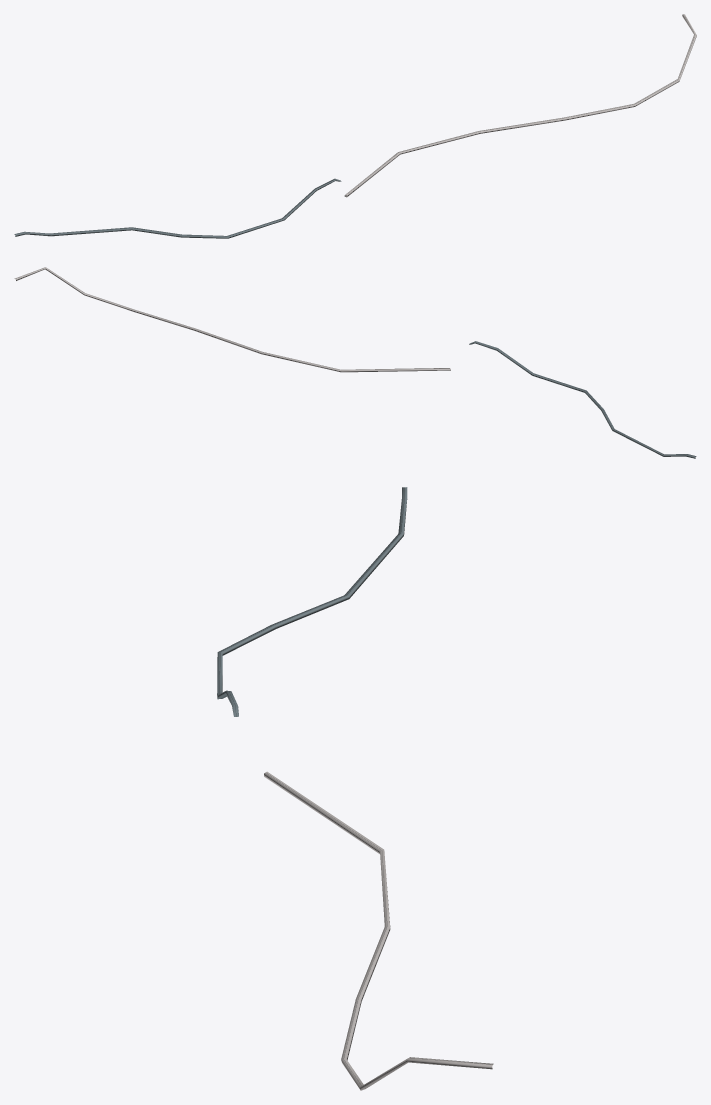
The model's file is kd_stage_135b75_4_111_bounded.glb.
3 views of the same model, one above another, from view 1: azimuth 30°, elevation 25°; view 2: azimuth 150°, elevation 25°; view 3: azimuth 270°, elevation 25° (orthographic). The views are drawn at different scales.
Parts seen in each view (by area): view 1: kd_stage_135b75_4_111_bounded; view 2: kd_stage_135b75_4_111_bounded; view 3: kd_stage_135b75_4_111_bounded.
Boxes of the visible parts, x1,y1,x2,y2 form: kd_stage_135b75_4_111_bounded: (14,14,696,238); kd_stage_135b75_4_111_bounded: (14,267,696,458); kd_stage_135b75_4_111_bounded: (217,487,493,1090).
Size of the model in its own units: 2.08 by 0.1265 by 0.377.
1 material, 1 textured.
